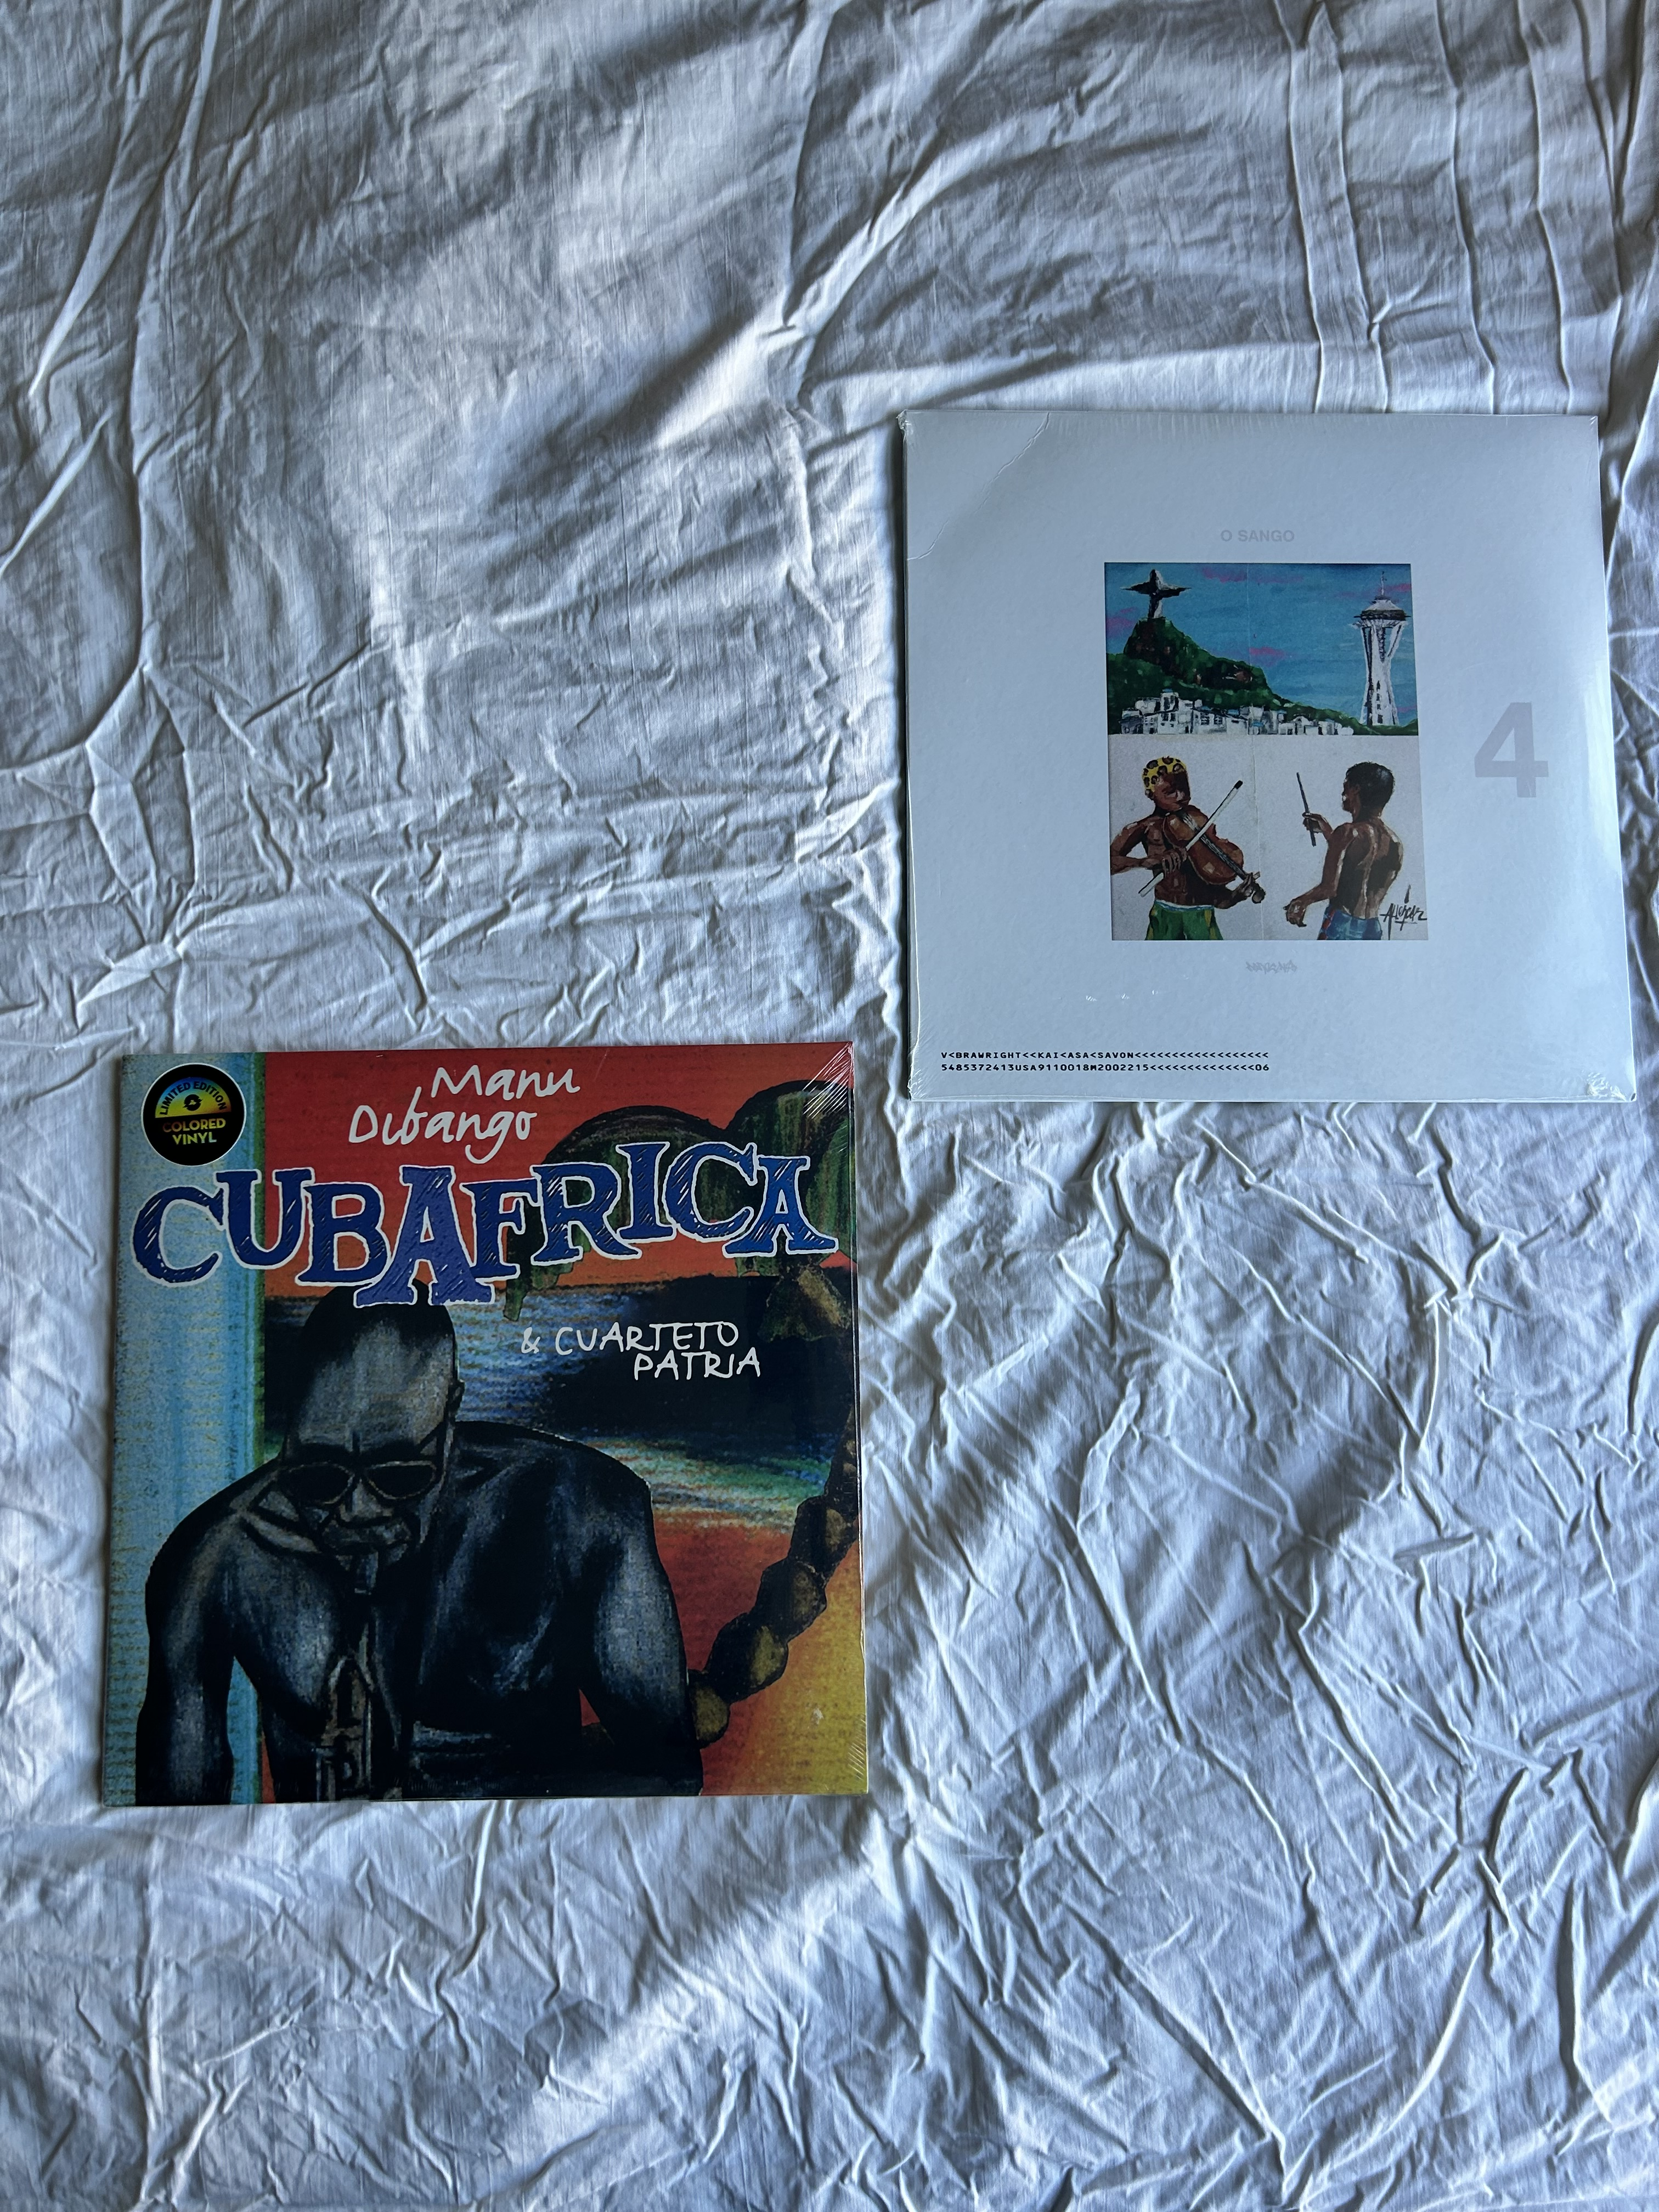manu dibango_cubafrica: (112, 1033, 873, 1797)
sango_da rocinha 4: (899, 409, 1640, 1101)
